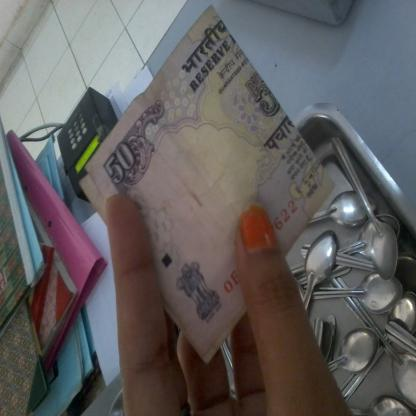Old50Front: (78, 6, 336, 364)
